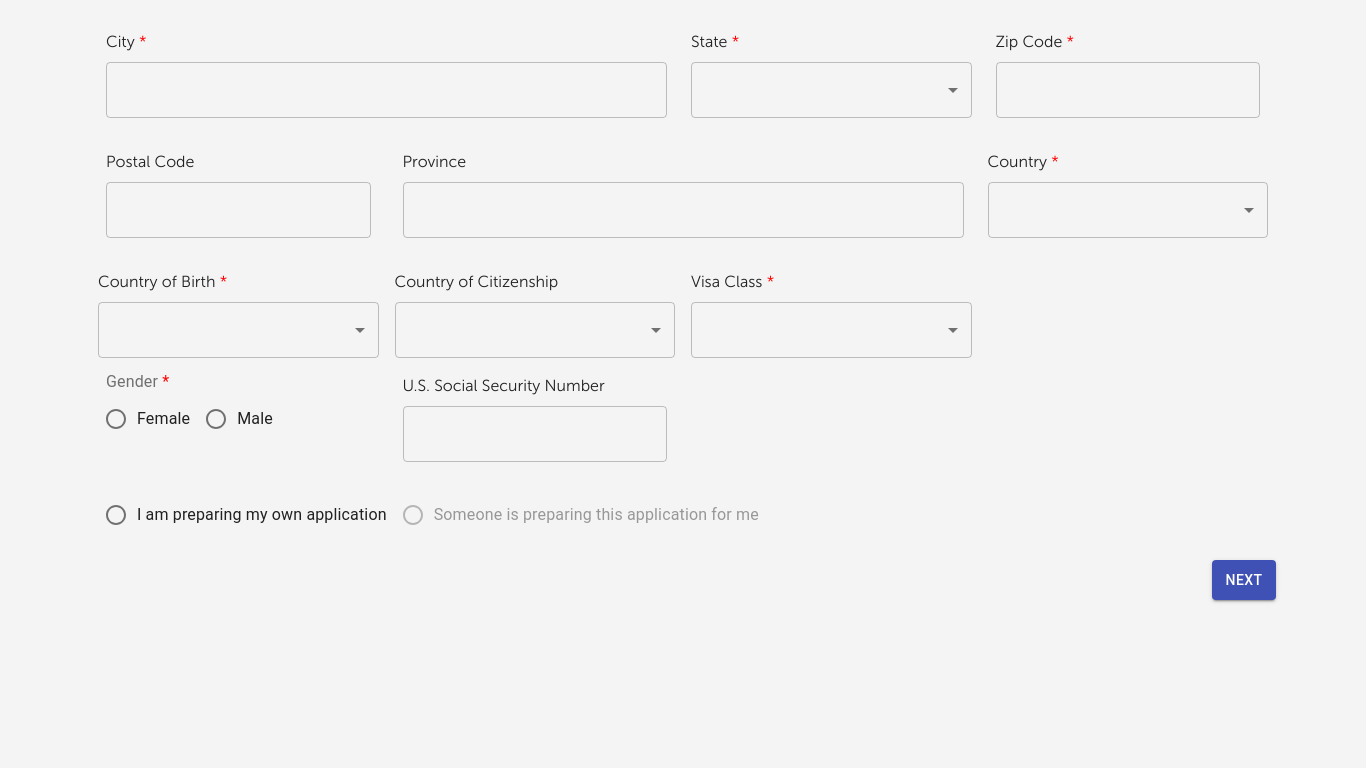
Test: landing page › clicks next
(page scrolled)
Click the button "Next". click: (1244, 580)
box: [1212,560,1276,600]
(page scrolled)
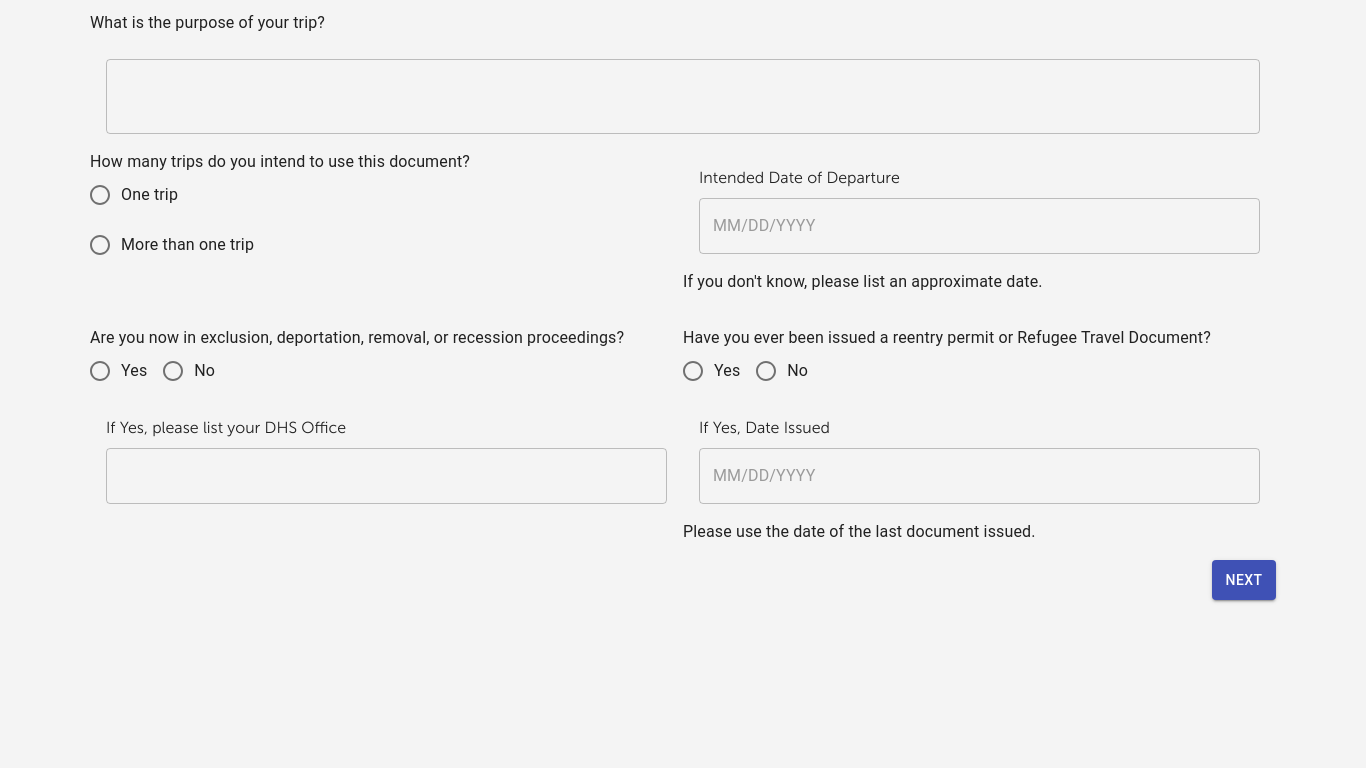
Click the button "Next". click: (1244, 580)
box: [1212,560,1276,600]
(page scrolled)
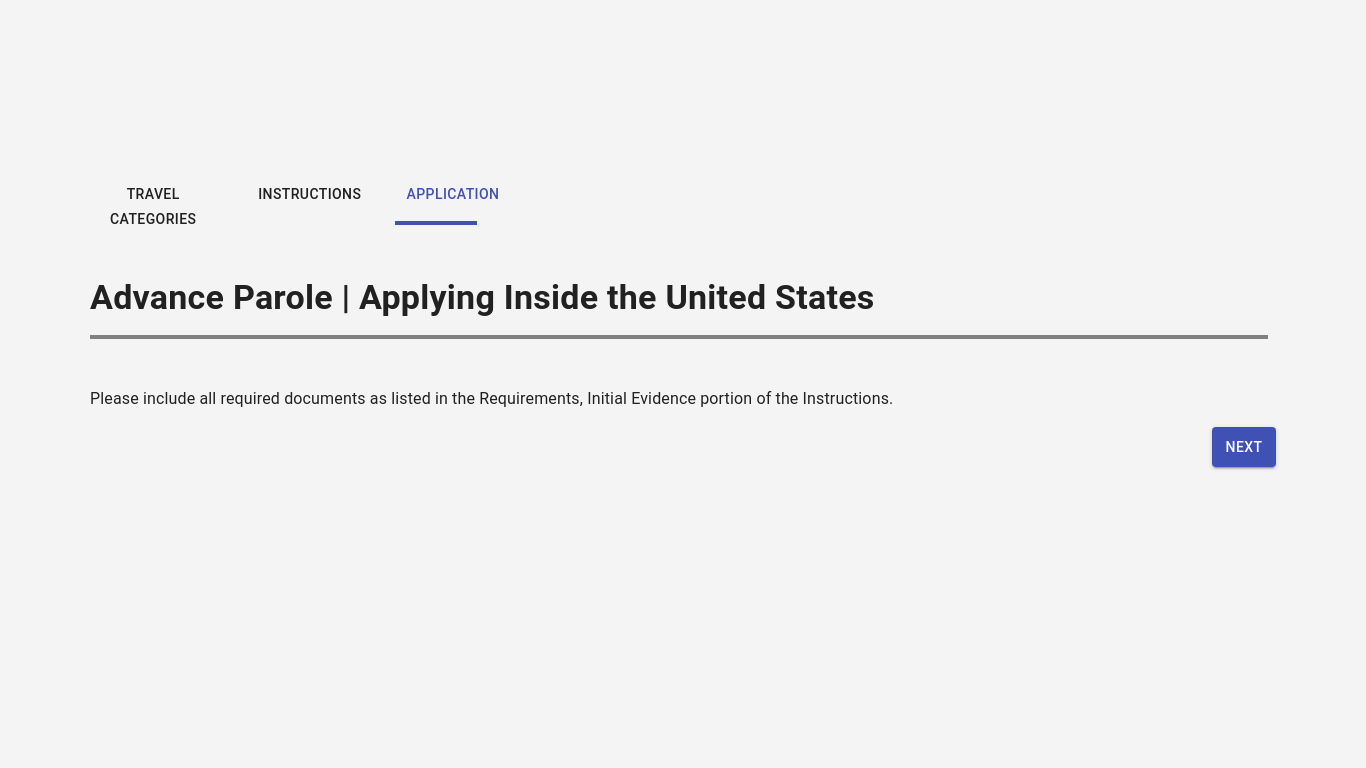
Result: the text "Please include all required documents as listed in the Requirements, Initial Evidence portion of the Instructions." is shown at [90,389,893,408]
Click the button "Next". click: (1244, 447)
box: [1212,427,1276,468]
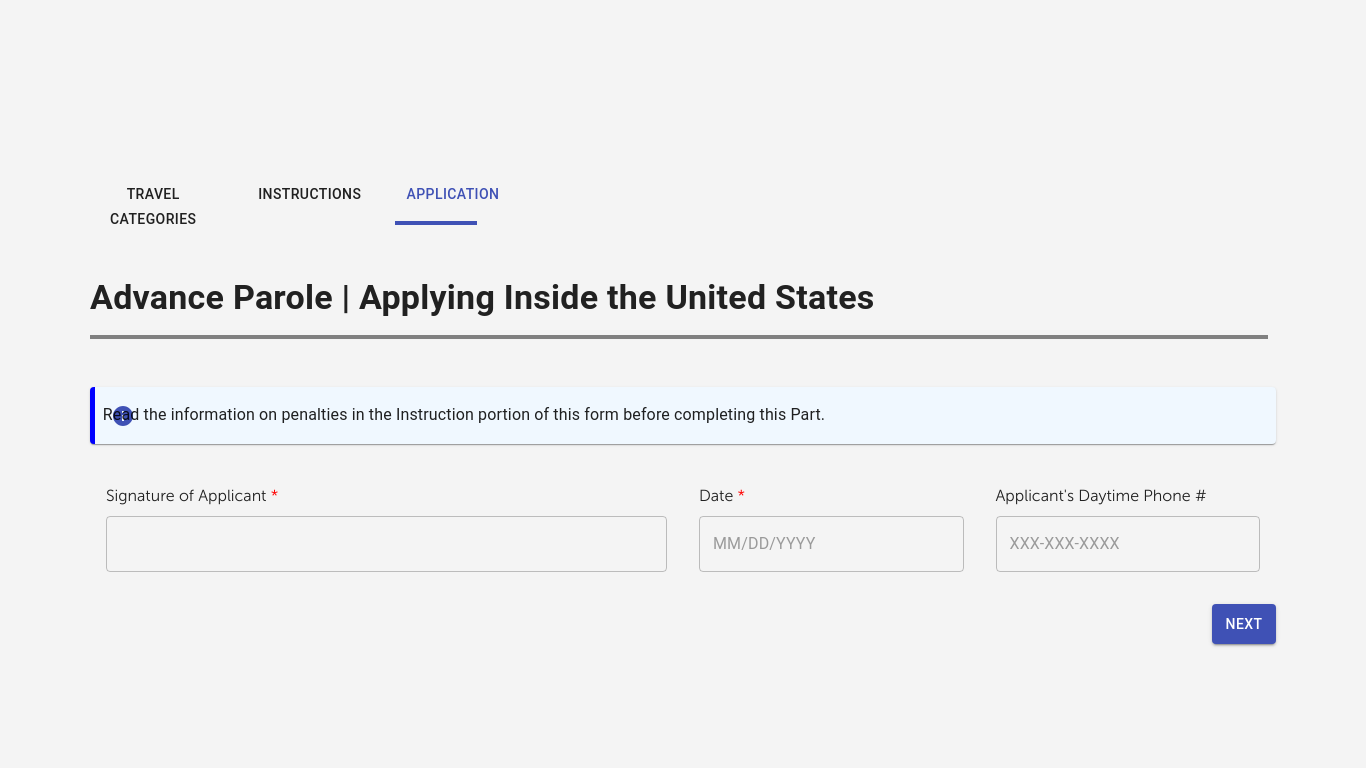
Result: the text "Signature of Applicant" is shown at [106,487,266,505]
